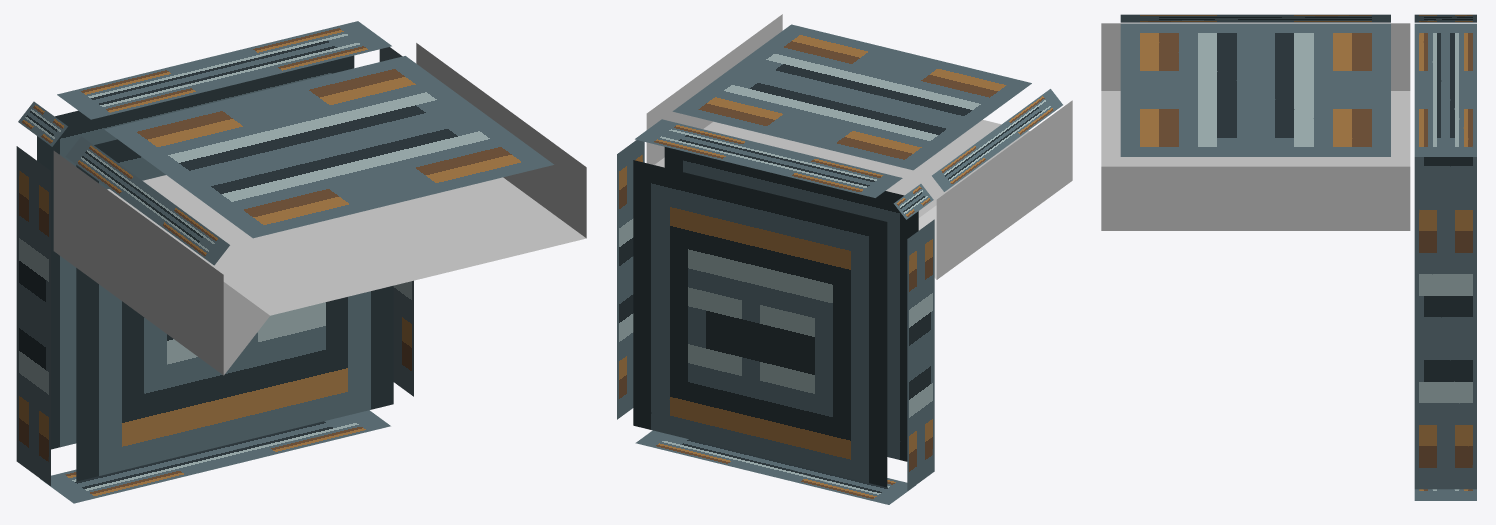
File: casing_d7_front_x-1_y3.obj
3 renders of one model, left to right at view 1: azimuth 30°, elevation 25°; view 2: azimuth 150°, elevation 25°; view 3: azimuth 270°, elevation 25°, orthographic. The views are drawn at different scales.
Parts seen in each view (by area): view 1: d7_front_x-1_y3; view 2: d7_front_x-1_y3; view 3: d7_front_x-1_y3.
Part boxes in pixels (x1,y1,x2,y2): d7_front_x-1_y3: (16, 21, 586, 503); d7_front_x-1_y3: (617, 14, 1072, 504); d7_front_x-1_y3: (1101, 14, 1476, 500).
Size of the model in its own units: 1 by 1 by 1.
